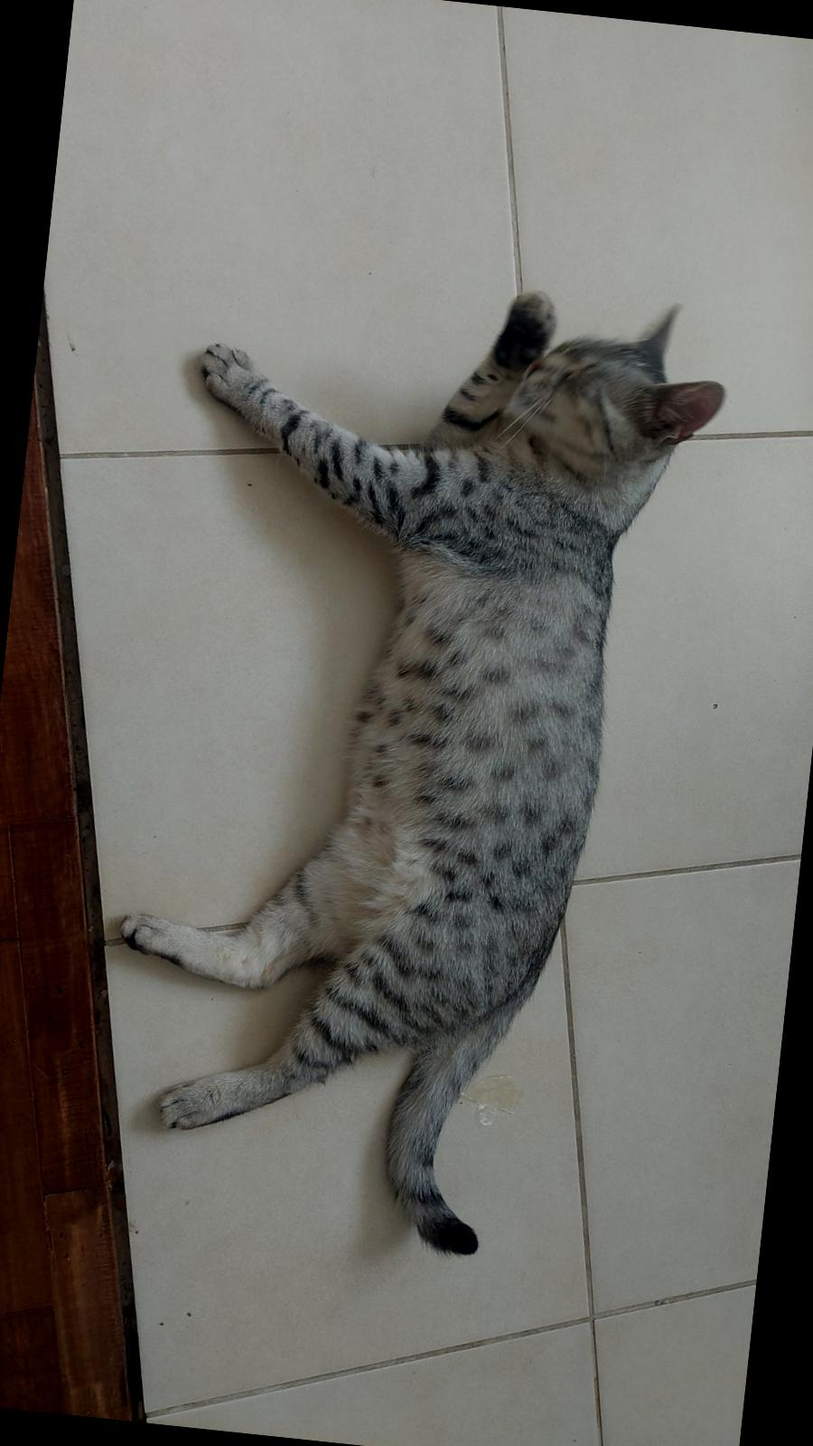macka: (87, 250, 735, 1273)
